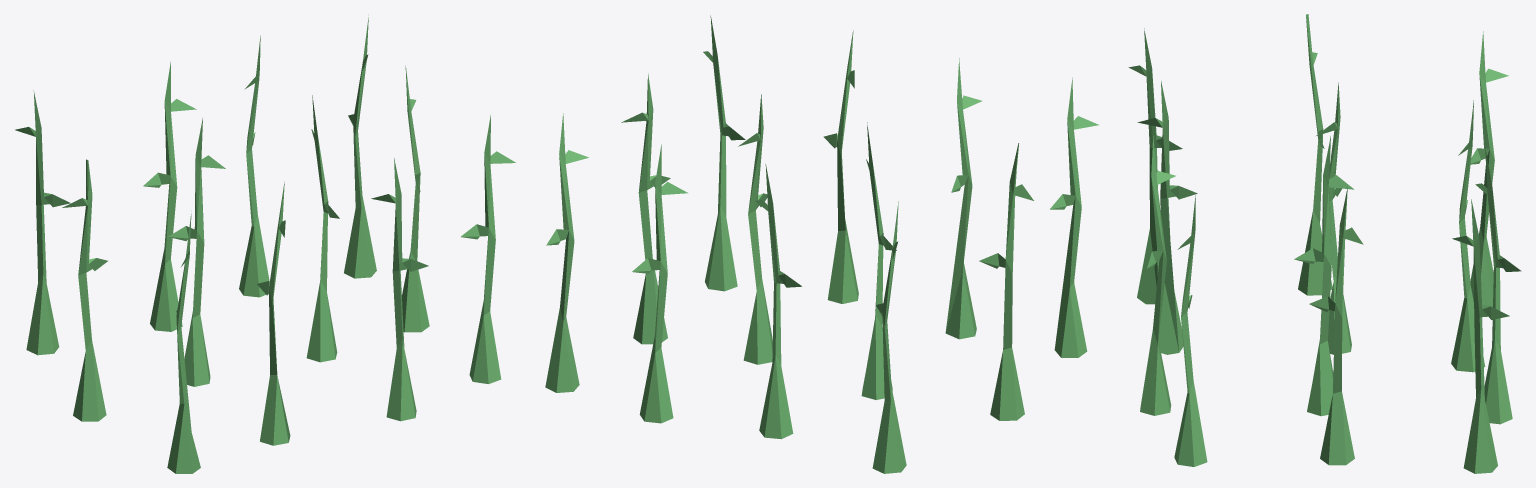
Rendered from Corn-1.fbx.
The picture shows the model from 3 angles, left to right: view 1: azimuth 30°, elevation 25°; view 2: azimuth 150°, elevation 25°; view 3: azimuth 270°, elevation 25°; orthographic projection. The views are drawn at different scales.
Visible parts, largest first — view 1: Corn-1; view 2: Corn-1; view 3: Corn-1.
Part boxes in pixels (bbox=[...]): Corn-1: bbox=[15, 14, 515, 473]; Corn-1: bbox=[545, 15, 1098, 473]; Corn-1: bbox=[1128, 14, 1521, 473].
Size of the model in its own units: 67.05 by 42.74 by 56.14.
